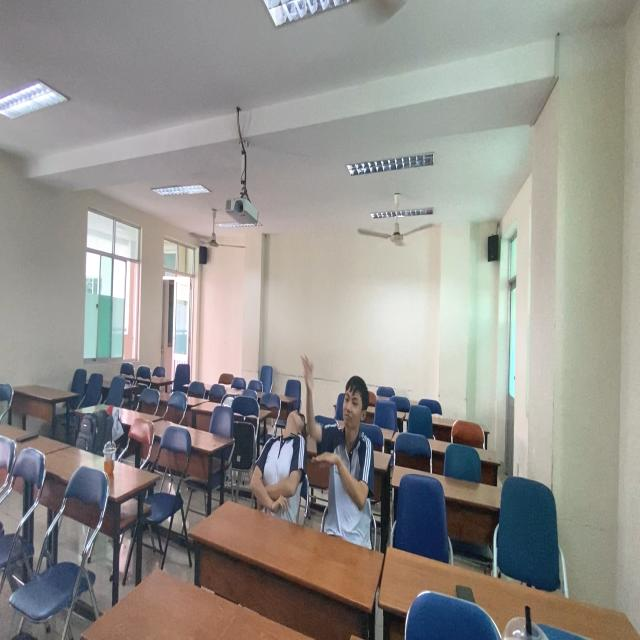raise_hand: (300, 344, 382, 539)
